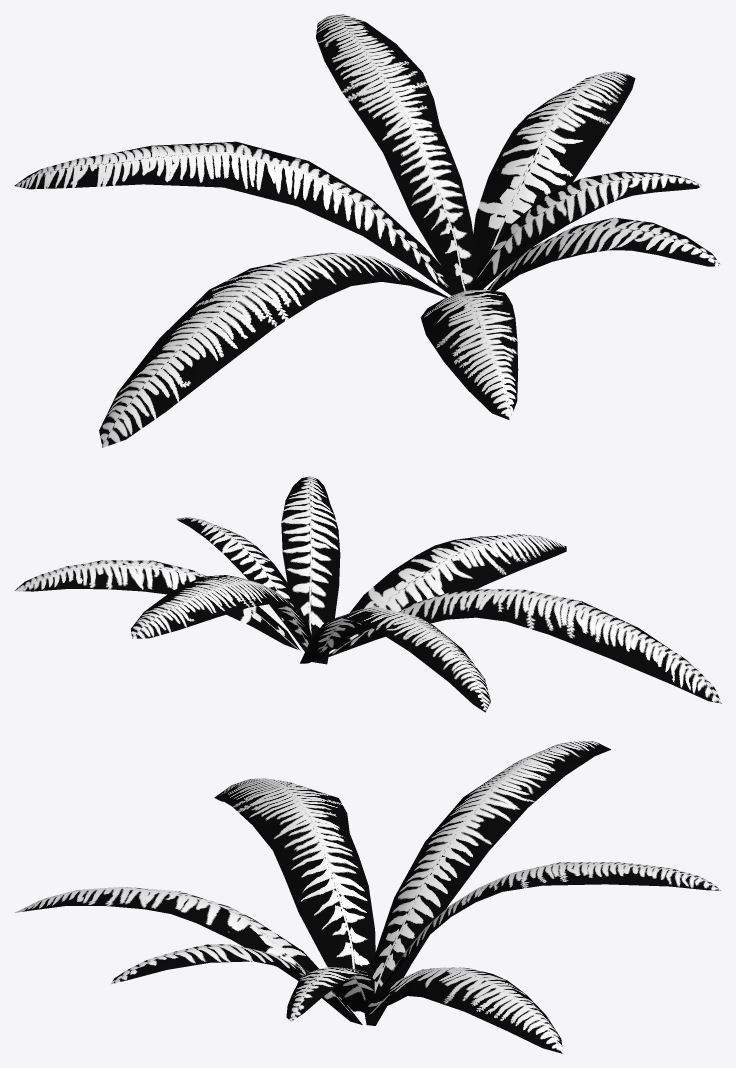
The model's file is Plant1.FBX.
The picture shows the model from 3 angles, top to bottom: view 1: azimuth 30°, elevation 25°; view 2: azimuth 150°, elevation 25°; view 3: azimuth 270°, elevation 25°; orthographic projection. The views are drawn at different scales.
Visible parts, largest first — view 1: Plane001; view 2: Plane001; view 3: Plane001.
Boxes of the visible parts, x1=… form: Plane001: x1=14, y1=14, x2=721, y2=447; Plane001: x1=14, y1=476, x2=721, y2=712; Plane001: x1=14, y1=741, x2=721, y2=1053.
Size of the model in its own units: 68.48 by 16.19 by 60.69.
